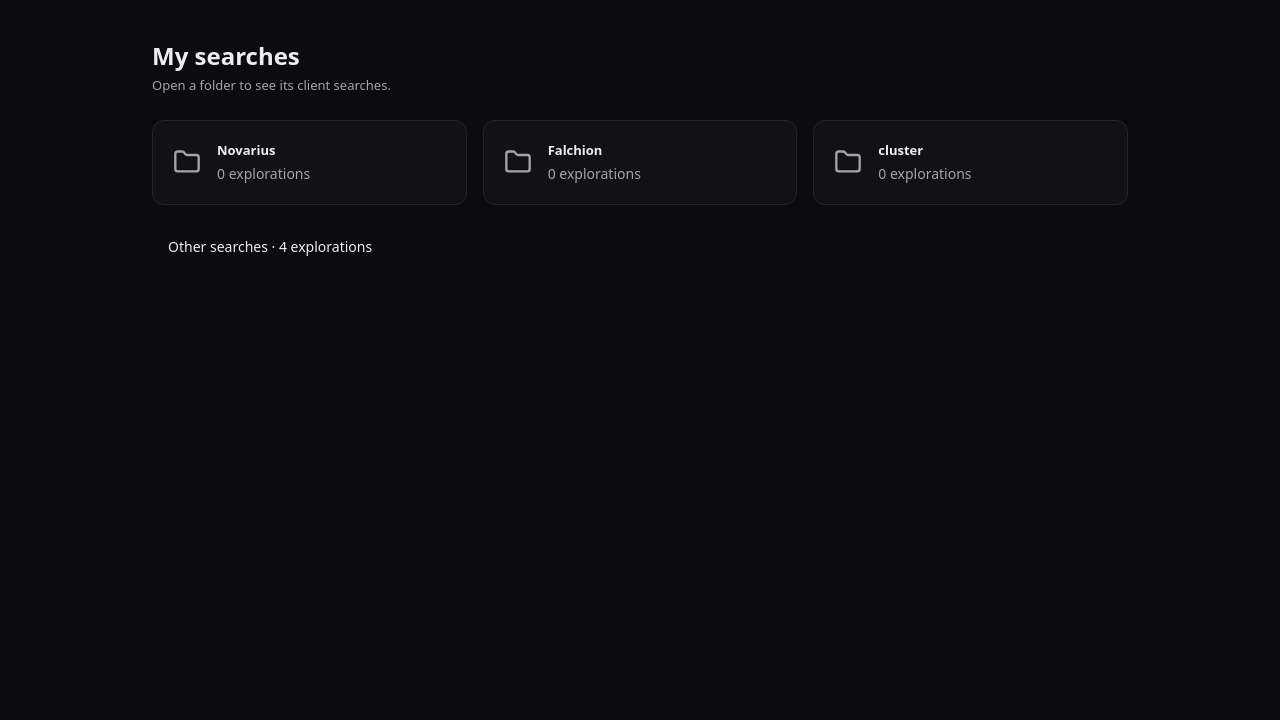
Scenario: My searches › says when, what, where, how many clients and how each search ended
This screenshot has width=1280, height=720.
Click the button "Other searches · 4 explorations" at (270, 247), box [152,229,388,265]
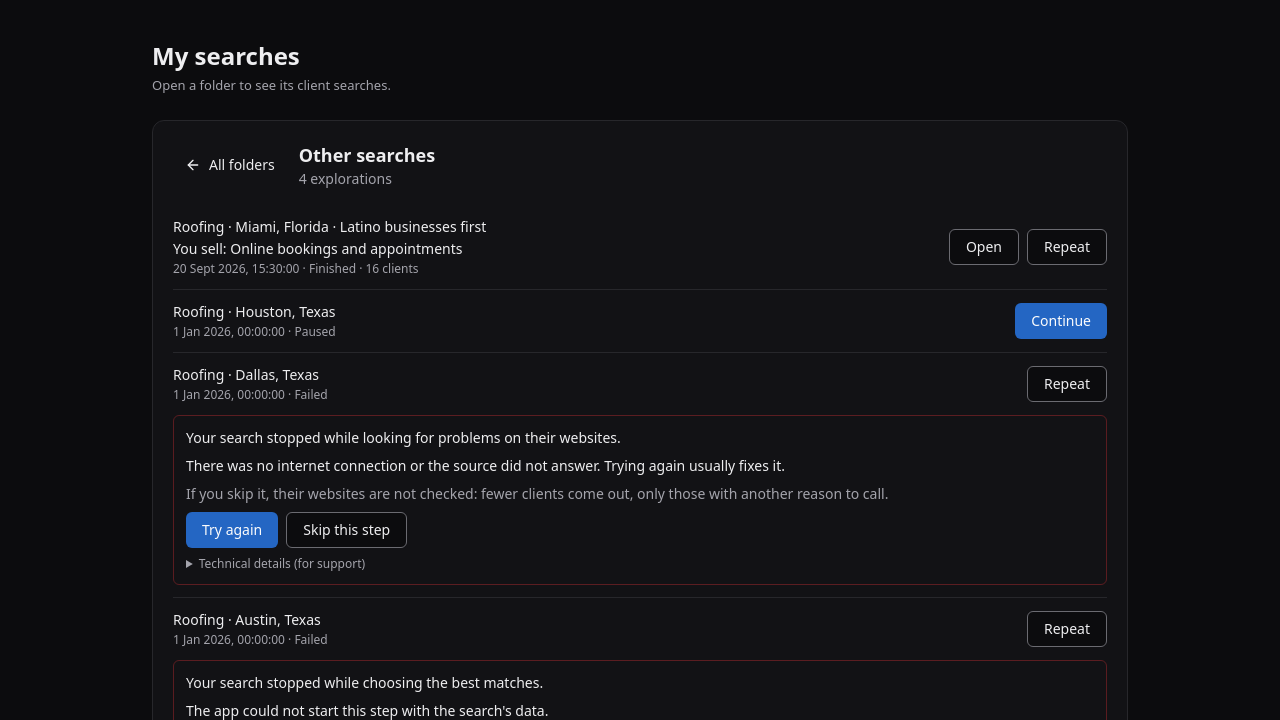
Now the list item "Roofing · Miami, Florida · Latino businesses first" is shown, box [173,216,486,236]
Now the text "You sell: Online bookings and appointments" is shown, box [173,238,486,258]
Now the text "20 Sept 2026, 15:30:00 · Finished · 16 clients" is shown, box [173,260,419,276]
